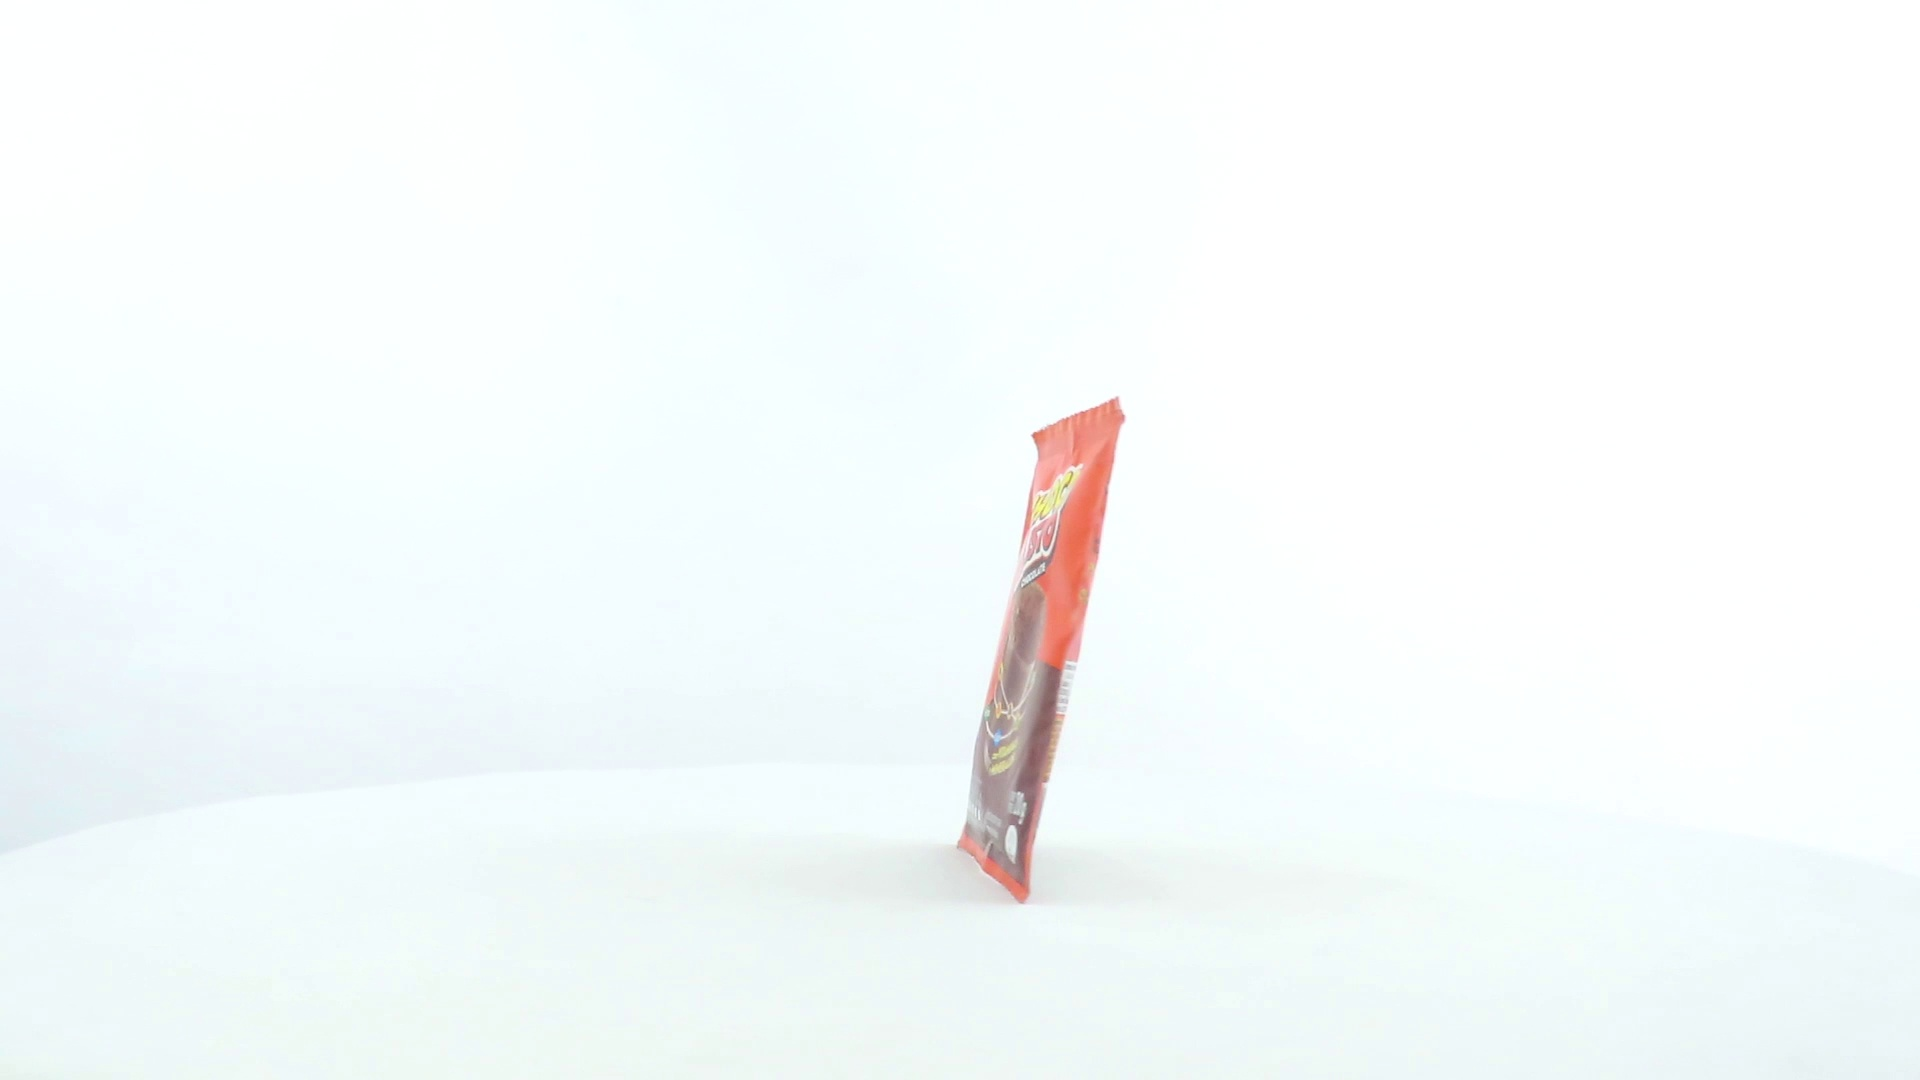COL0170103SOB02000: (915, 392, 1131, 913)
